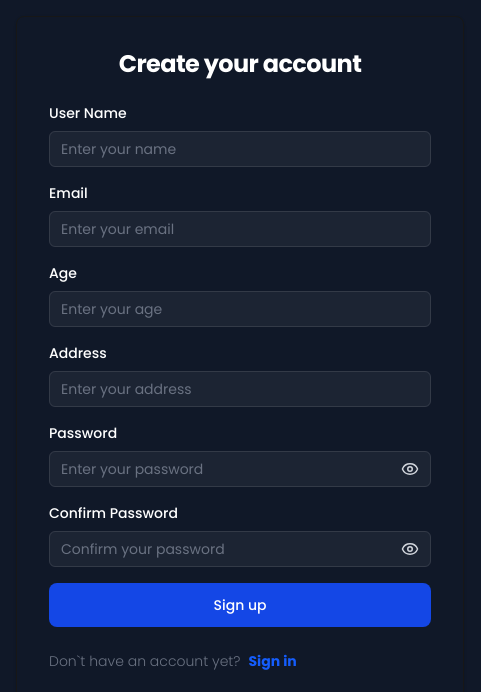
Test case: RegisterForm component › clears validation errors when fields change
Click the button "Sign up" at (240, 605), box left=49, top=583, right=431, bottom=627
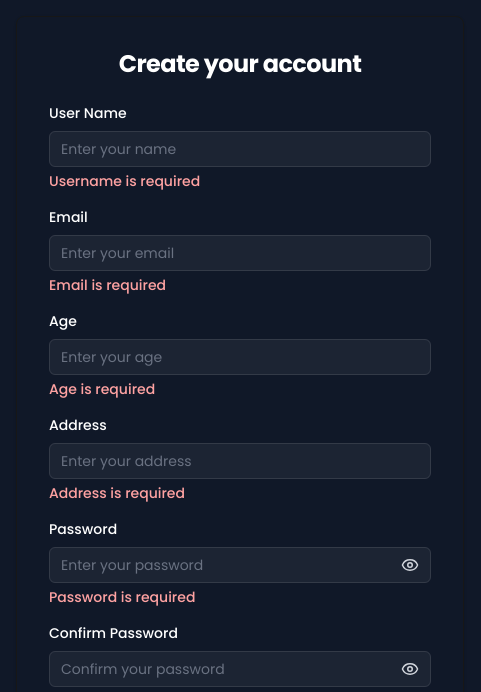
Check: the text "Username is required" is shown, box left=49, top=171, right=200, bottom=191
Type "Jane" into the field labelled "User Name" at (240, 149), box left=49, top=131, right=431, bottom=167
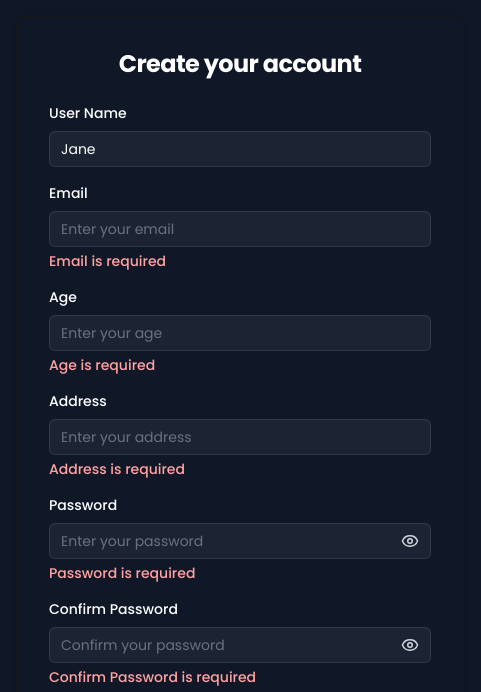
Check: the text "Username is required" is gone
